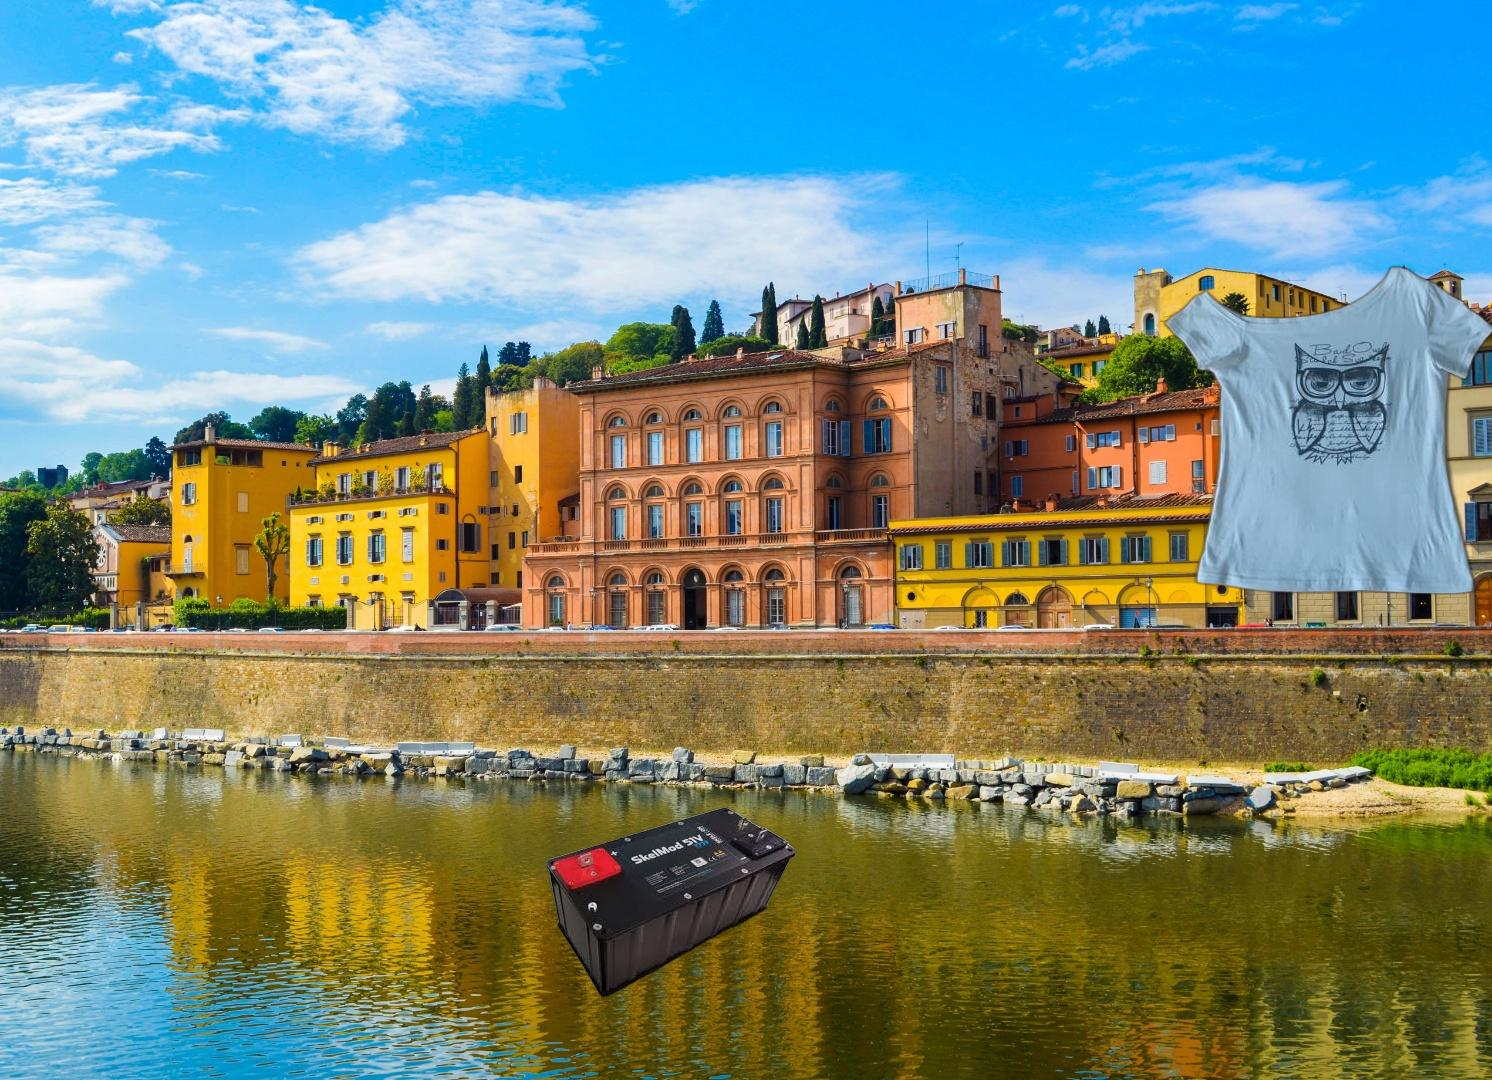battery: (543, 805, 795, 999)
clothes: (1160, 263, 1492, 597)
